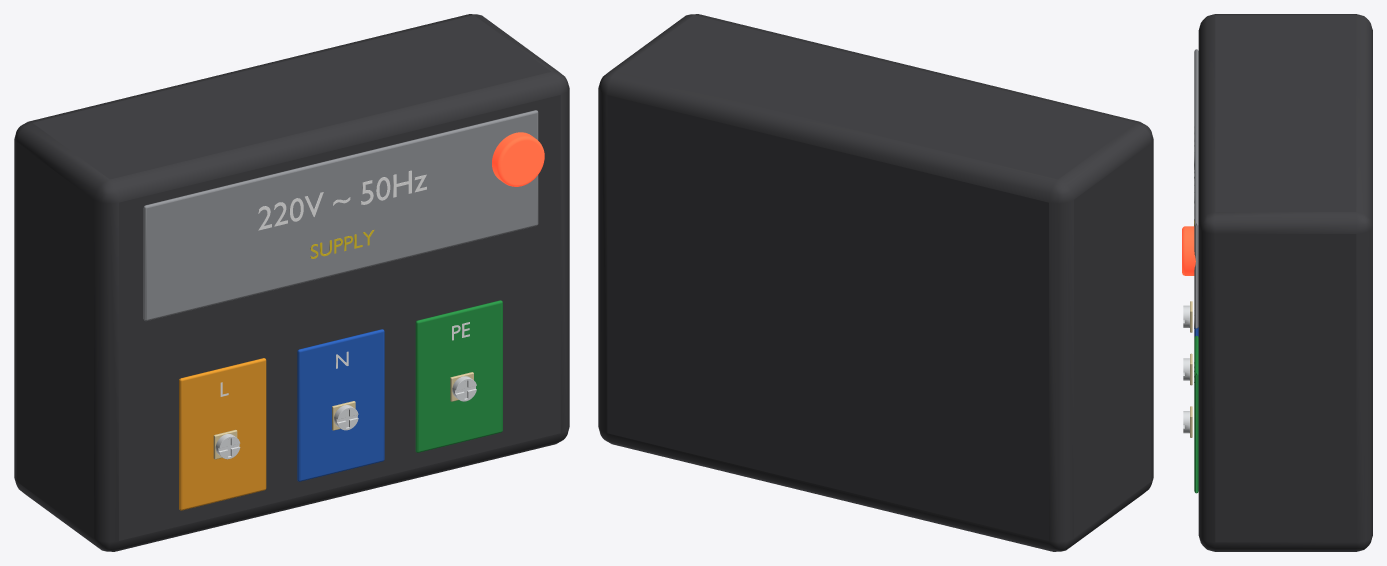
File: supply.glb
The picture shows the model from 3 angles, left to right: view 1: azimuth 30°, elevation 25°; view 2: azimuth 150°, elevation 25°; view 3: azimuth 270°, elevation 25°; orthographic projection. The views are drawn at different scales.
Parts seen in each view (by area): view 1: body; view 2: body; view 3: body.
Boxes of the visible parts, left/top/right/bottom form: body: left=14, top=14, right=569, bottom=551; body: left=598, top=14, right=1153, bottom=551; body: left=1182, top=14, right=1372, bottom=551.
Bounding box in the file's own units: 0.12 × 0.09 × 0.046.
